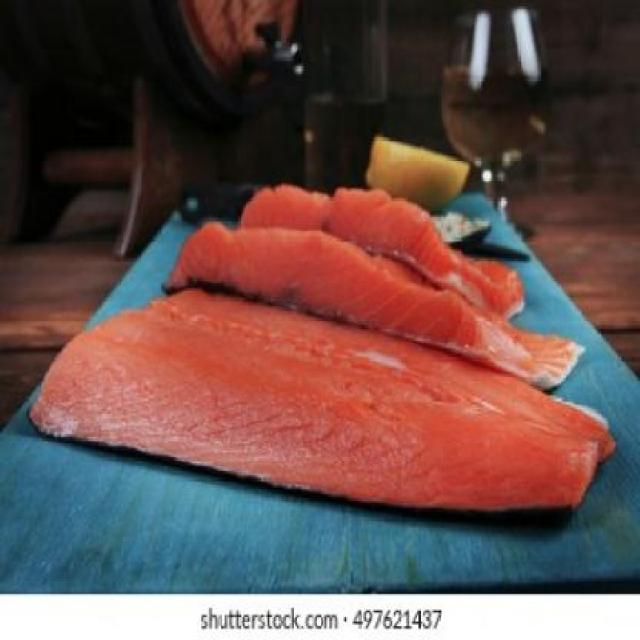salmon: (18, 254, 622, 548), (142, 211, 593, 414), (214, 169, 541, 325)
